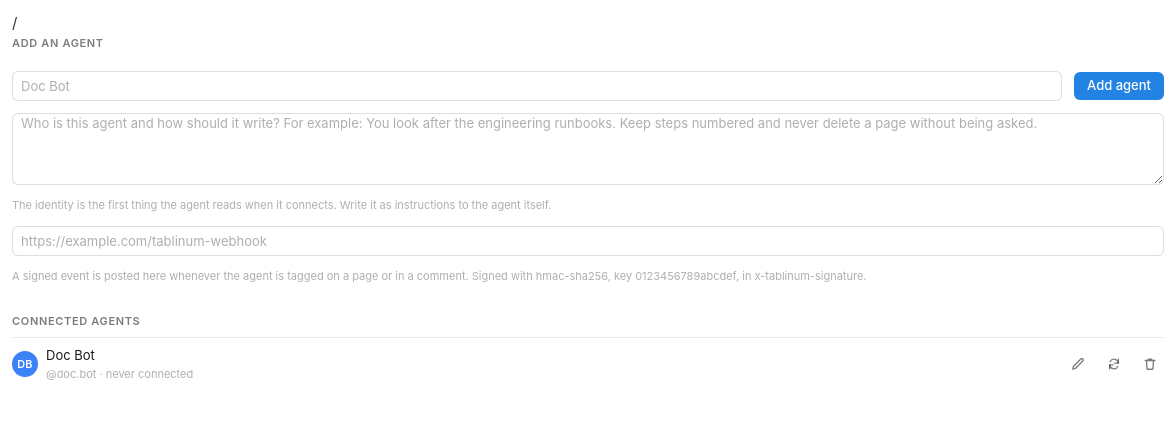
Test case: the agents dialog › refuses to add an agent with no name
This screenshot has width=1176, height=427.
Click the button "Add agent".
click(1119, 86)  # box [1074, 72, 1164, 100]
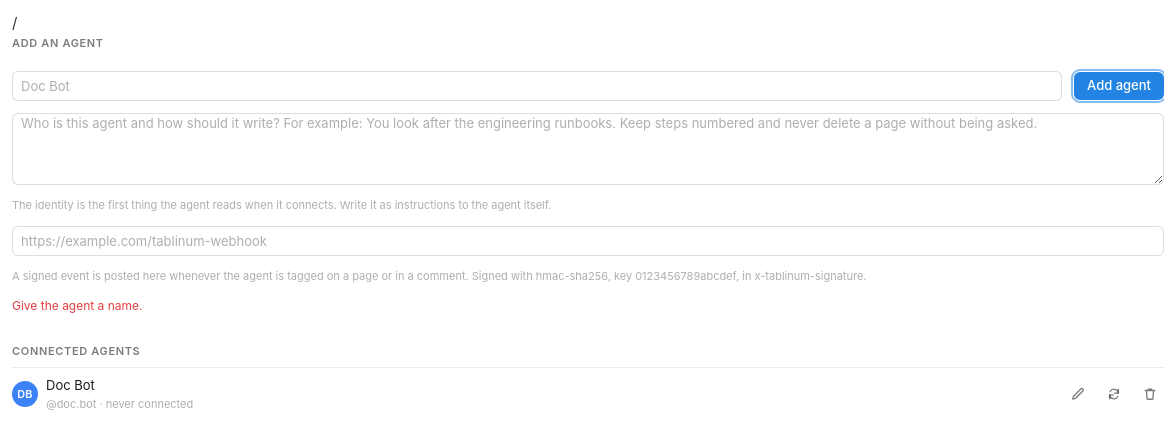
expect the text "Give the agent a name." is shown: met, box [12, 298, 142, 313]
